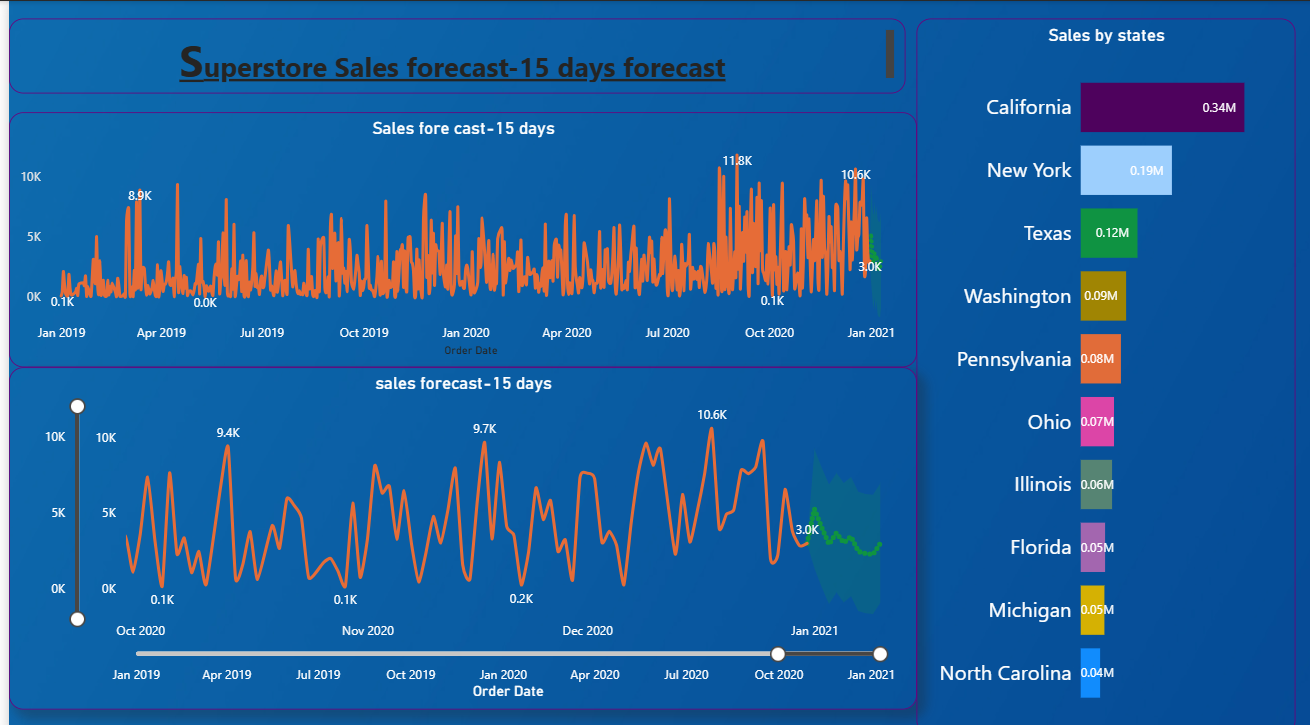

The dashboard page shown, as its layout file describes it:
{"tool":"powerbi","page":{"name":"Page 2","canvas":[1280,720],"ordinal":1},"visuals":[{"type":"lineChart","title":"Sales fore cast-15 days","fields":{"Y":["Sum(SuperStore_Sales_Dataset.Sales)"],"Category":["SuperStore_Sales_Dataset.Order Date"]},"box":[0,109.2,890.8,250.3],"z":0},{"type":"lineChart","title":"sales forecast-15 days","fields":{"Y":["Sum(SuperStore_Sales_Dataset.Sales)"],"Category":["SuperStore_Sales_Dataset.Order Date"]},"box":[0,359.5,890.8,336.2],"z":1000},{"type":"clusteredBarChart","title":" Sales by states","fields":{"Category":["SuperStore_Sales_Dataset.State"],"Y":["Sum(SuperStore_Sales_Dataset.Sales)"]},"box":[890.8,17.2,371.8,703.1],"z":1001},{"type":"textbox","box":[0,17.2,879.8,73.6],"z":1002}]}

Visuals, with their boxes in screenshot pixels (x1, y1, x2, y2), scaled from the page's 1280x720 canvas onto the 1310x725 screenshot:
"Sales fore cast-15 days" lineChart: 0:110:912:362
"sales forecast-15 days" lineChart: 0:362:912:701
" Sales by states" clusteredBarChart: 912:17:1292:724
textbox: 0:17:900:91
